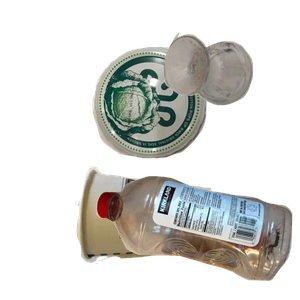glass: (161, 30, 300, 128)
metal: (90, 44, 289, 195)
plastic: (93, 173, 300, 300)
trash: (73, 164, 278, 300)
